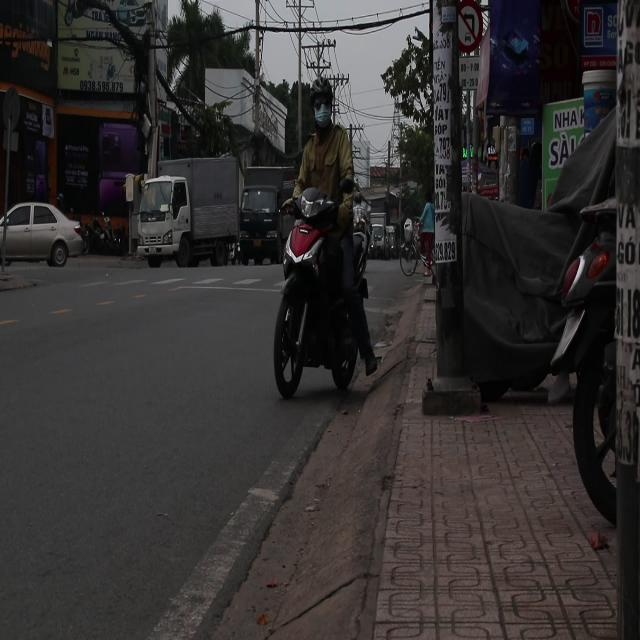car: (1, 203, 86, 267)
motorbike: (272, 193, 376, 396)
truck: (135, 158, 242, 270), (237, 170, 292, 266)
